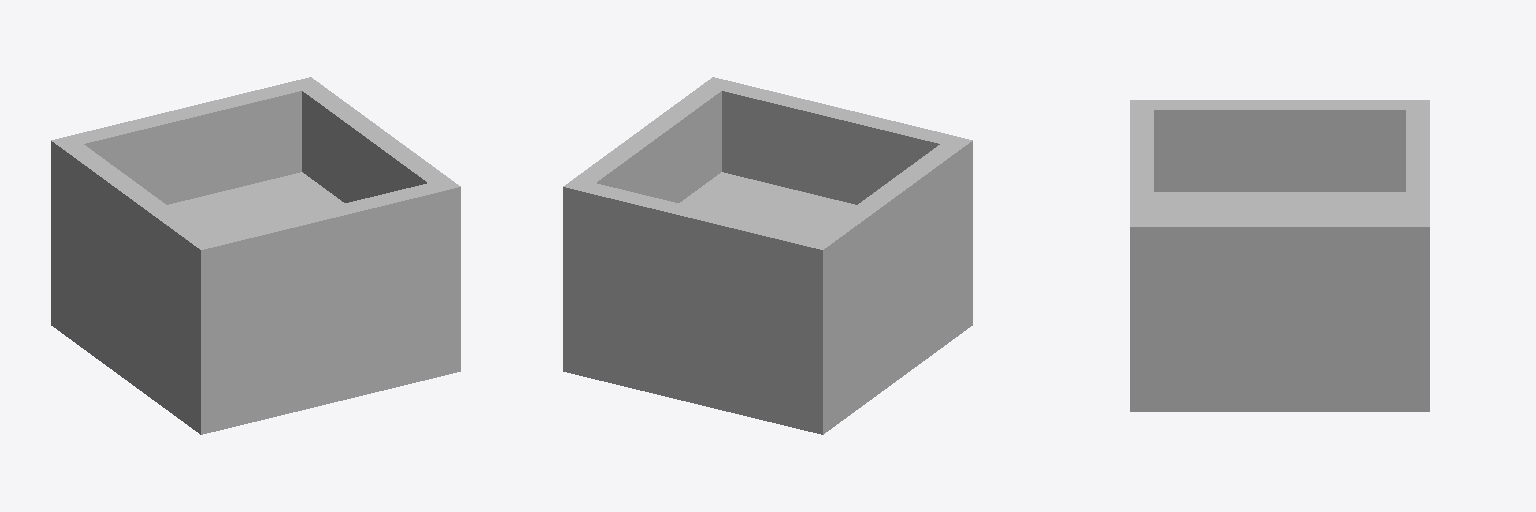
Rendered from pieceholder.obj.
3 renders of one model, left to right at view 1: azimuth 30°, elevation 25°; view 2: azimuth 150°, elevation 25°; view 3: azimuth 270°, elevation 25°, orthographic.
Visible parts, largest first — view 1: Cube.004; view 2: Cube.004; view 3: Cube.004.
Boxes of the visible parts, x1=… form: Cube.004: x1=51, y1=77, x2=460, y2=434; Cube.004: x1=563, y1=77, x2=972, y2=434; Cube.004: x1=1130, y1=100, x2=1429, y2=411.
Bounding box in the file's own units: 0.2618 × 0.1777 × 0.2618.